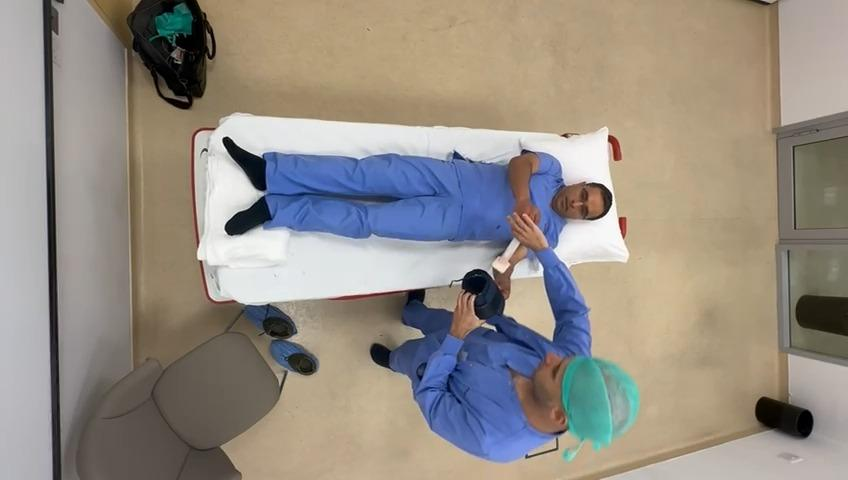bed: (192, 116, 626, 302)
prepstick: (492, 238, 520, 272)
tourniquet: (462, 270, 505, 320)
